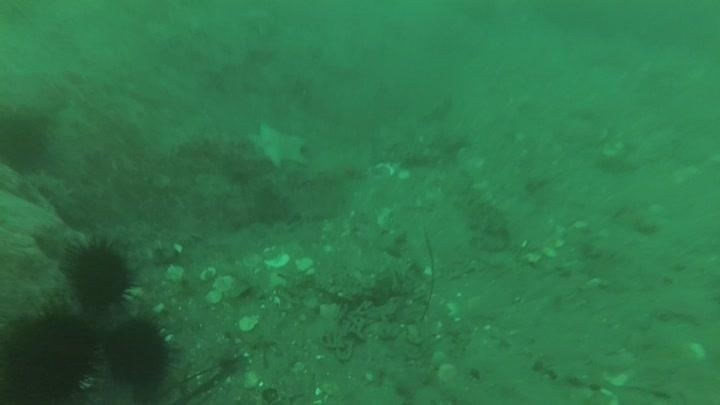echinus: (1, 304, 102, 404), (62, 235, 138, 313), (101, 315, 176, 390), (0, 106, 53, 174)
holothurian: (24, 168, 87, 228)
starfish: (245, 120, 310, 172)
